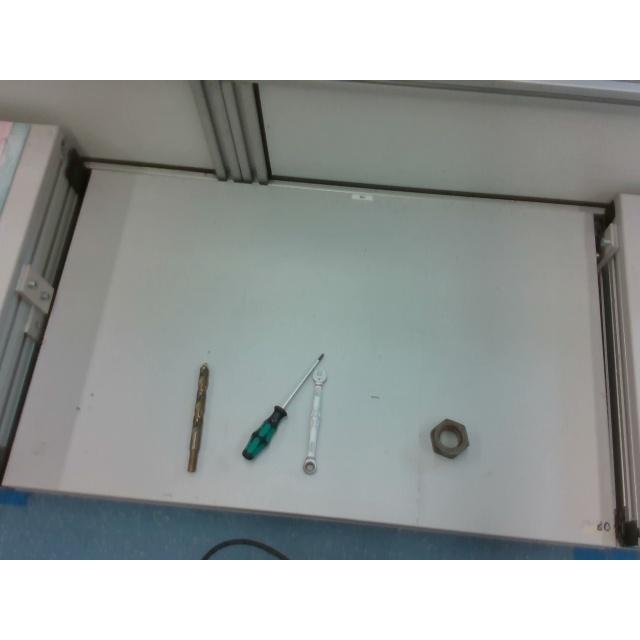Drill: (186, 362, 210, 472)
M30: (426, 416, 469, 458)
Screwdriver: (240, 352, 324, 456)
Wrench: (301, 368, 327, 476)
